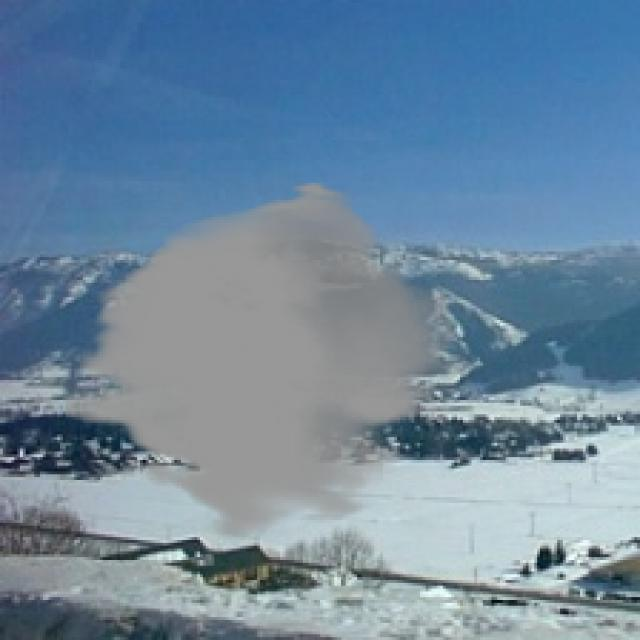smoke: (66, 180, 451, 540)
